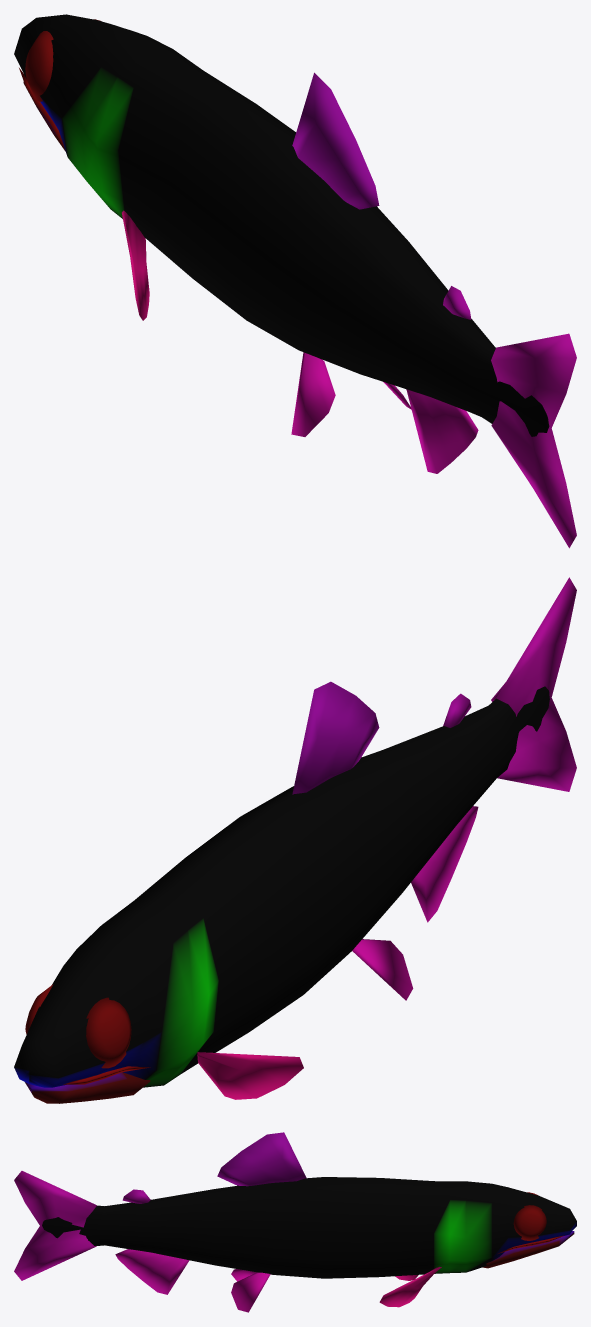
The model's file is sockeye_parr_game.glb.
3 views of the same model, one above another, from view 1: azimuth 30°, elevation 25°; view 2: azimuth 150°, elevation 25°; view 3: azimuth 270°, elevation 25° (orthographic). The views are drawn at different scales.
Parts seen in each view (by area): view 1: sockeye_parr_game; view 2: sockeye_parr_game; view 3: sockeye_parr_game.
Part boxes in pixels (<box>): sockeye_parr_game: <box>14,14,576,548</box>; sockeye_parr_game: <box>14,577,576,1103</box>; sockeye_parr_game: <box>14,1132,576,1312</box>.
Bounding box in the file's own units: 0.1028 × 0.1923 × 0.5913.
